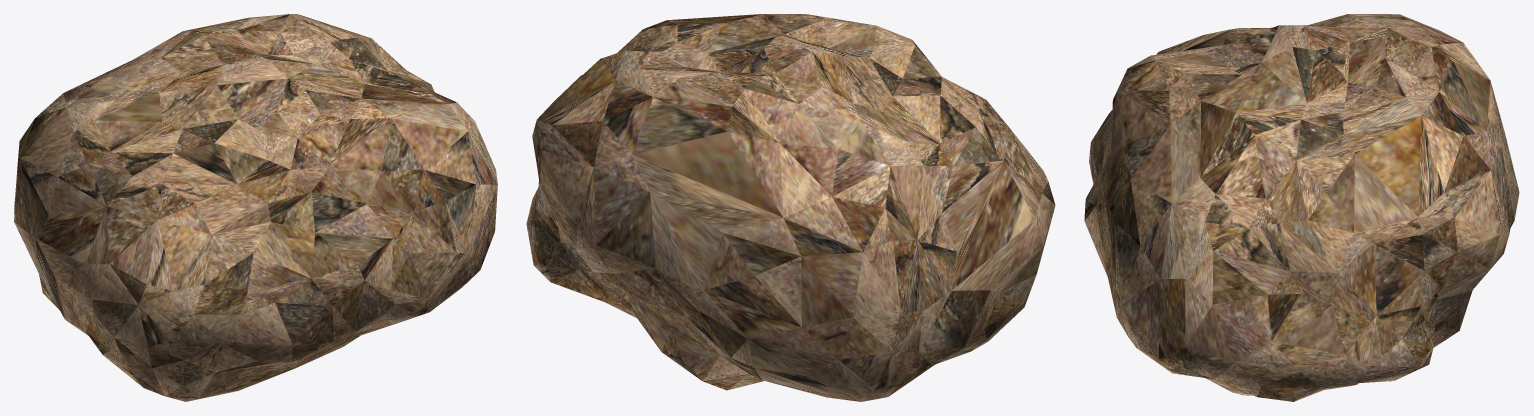
The model's file is stone2.obj.
3 views of the same model, side by side, from view 1: azimuth 30°, elevation 25°; view 2: azimuth 150°, elevation 25°; view 3: azimuth 270°, elevation 25° (orthographic). The views are drawn at different scales.
Visible parts, largest first — view 1: Cube; view 2: Cube; view 3: Cube.
Part boxes in pixels (bbox=[...]): Cube: bbox=[14, 14, 497, 401]; Cube: bbox=[526, 14, 1055, 401]; Cube: bbox=[1084, 14, 1519, 401].
Size of the model in its own units: 697 by 489 by 573.
